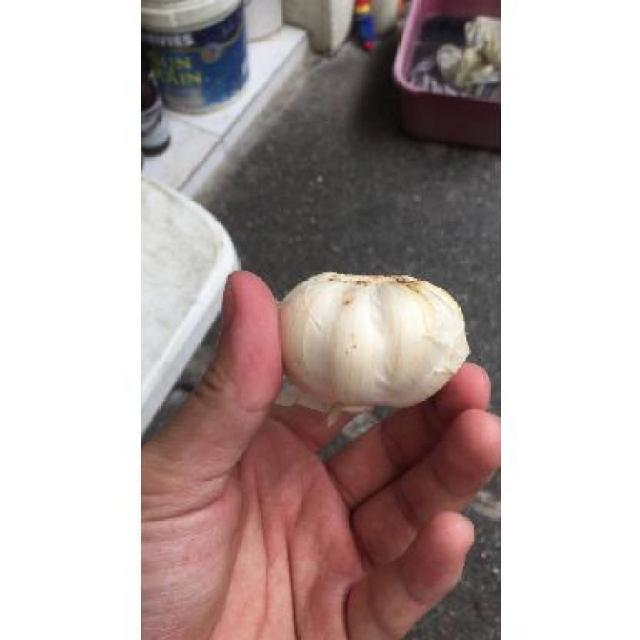Garlic: (259, 256, 483, 432)
